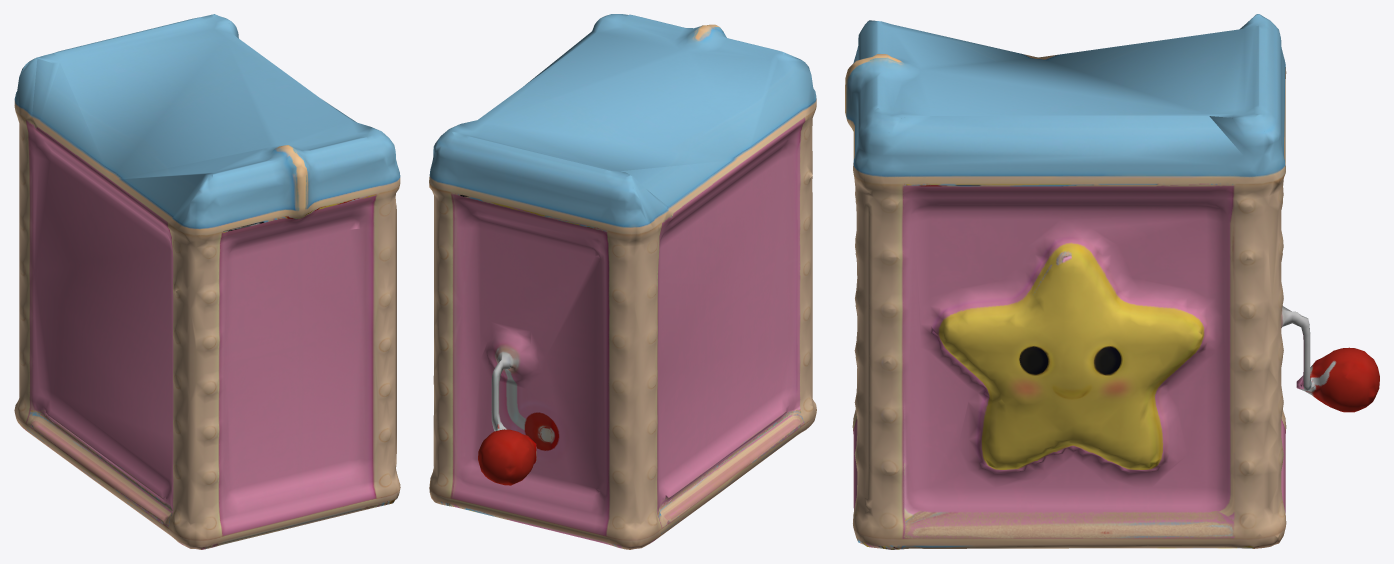
The picture shows the model from 3 angles, left to right: view 1: azimuth 30°, elevation 25°; view 2: azimuth 150°, elevation 25°; view 3: azimuth 270°, elevation 25°; orthographic projection. The views are drawn at different scales.
Visible parts, largest first — view 1: repaired; view 2: repaired; view 3: repaired.
Part boxes in pixels (x1,y1,x2,y2): repaired: (14, 14, 400, 549); repaired: (429, 14, 816, 549); repaired: (845, 14, 1379, 549).
Bounding box in the file's own units: 0.6098 × 0.9026 × 1.01.
Materials: 1 (1 with a texture image).
